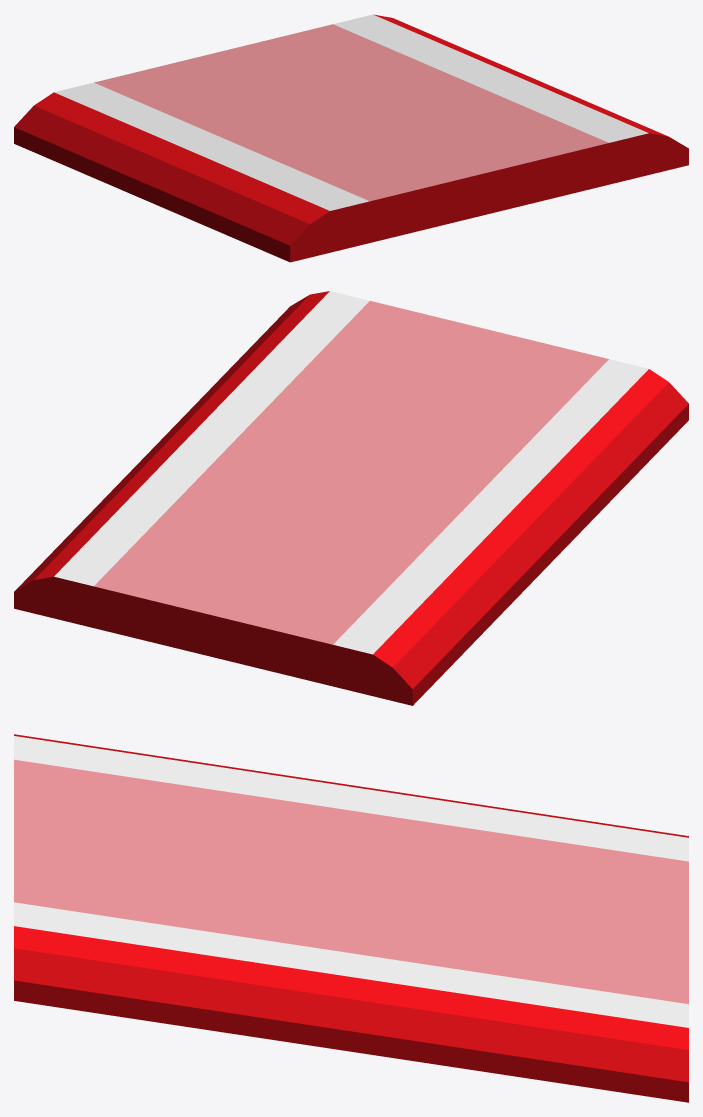
The model's file is inc1.fbx.
3 views of the same model, one above another, from view 1: azimuth 30°, elevation 25°; view 2: azimuth 150°, elevation 25°; view 3: azimuth 270°, elevation 25° (orthographic). The views are drawn at different scales.
Visible parts, largest first — view 1: Incline1; view 2: Incline1; view 3: Incline1.
Part boxes in pixels (<box>): Incline1: <box>14,14,688,262</box>; Incline1: <box>14,291,688,705</box>; Incline1: <box>14,734,688,1102</box>.
Size of the model in its own units: 10 by 3 by 12.
